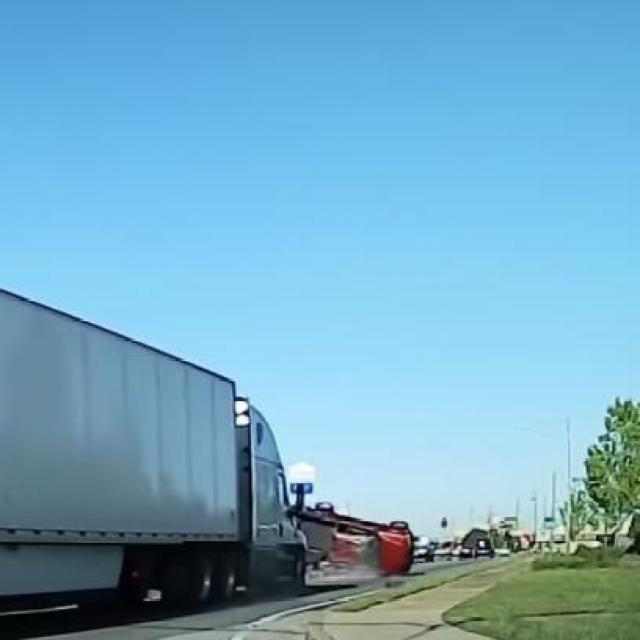accident: (0, 274, 428, 604)
